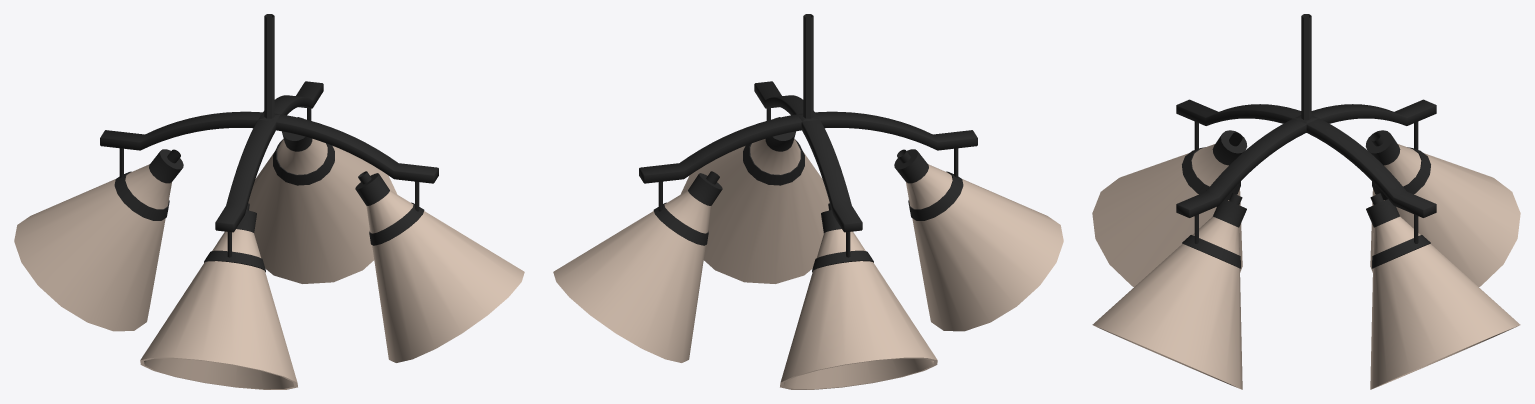
File: Coq_funiture_Celling_light01.fbx
3 views of the same model, side by side, from view 1: azimuth 30°, elevation 25°; view 2: azimuth 150°, elevation 25°; view 3: azimuth 270°, elevation 25° (orthographic).
Visible parts, largest first — view 1: light, cable; view 2: light, cable; view 3: light, cable.
Part boxes in pixels (box(x1,y1,x2,y2)): light: box(14, 81, 524, 389); cable: box(264, 14, 274, 118); light: box(553, 81, 1063, 389); cable: box(803, 14, 813, 118); light: box(1092, 99, 1520, 389); cable: box(1301, 14, 1311, 120).
Size of the model in its own units: 193 by 161 by 192.
